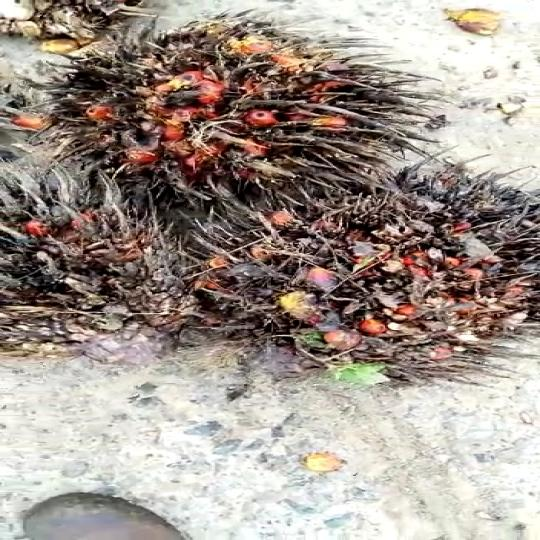terlalu masak: (157, 160, 534, 385), (66, 45, 418, 206), (0, 171, 177, 340)
